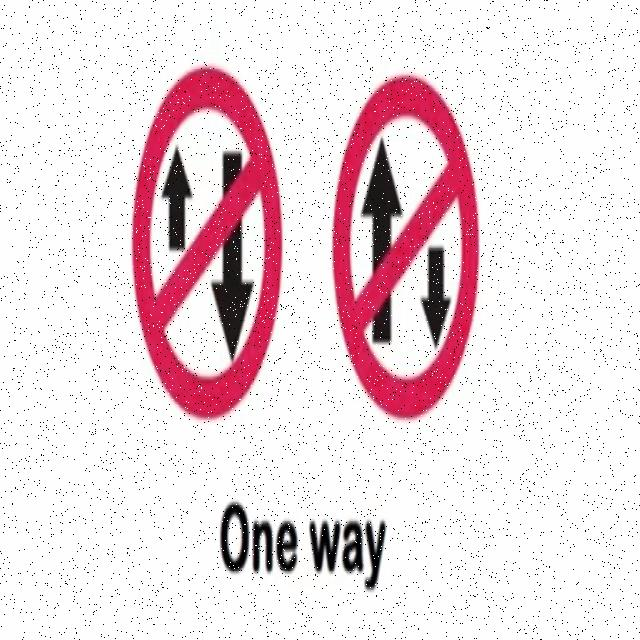one_way: (136, 68, 280, 417), (334, 78, 477, 416)
